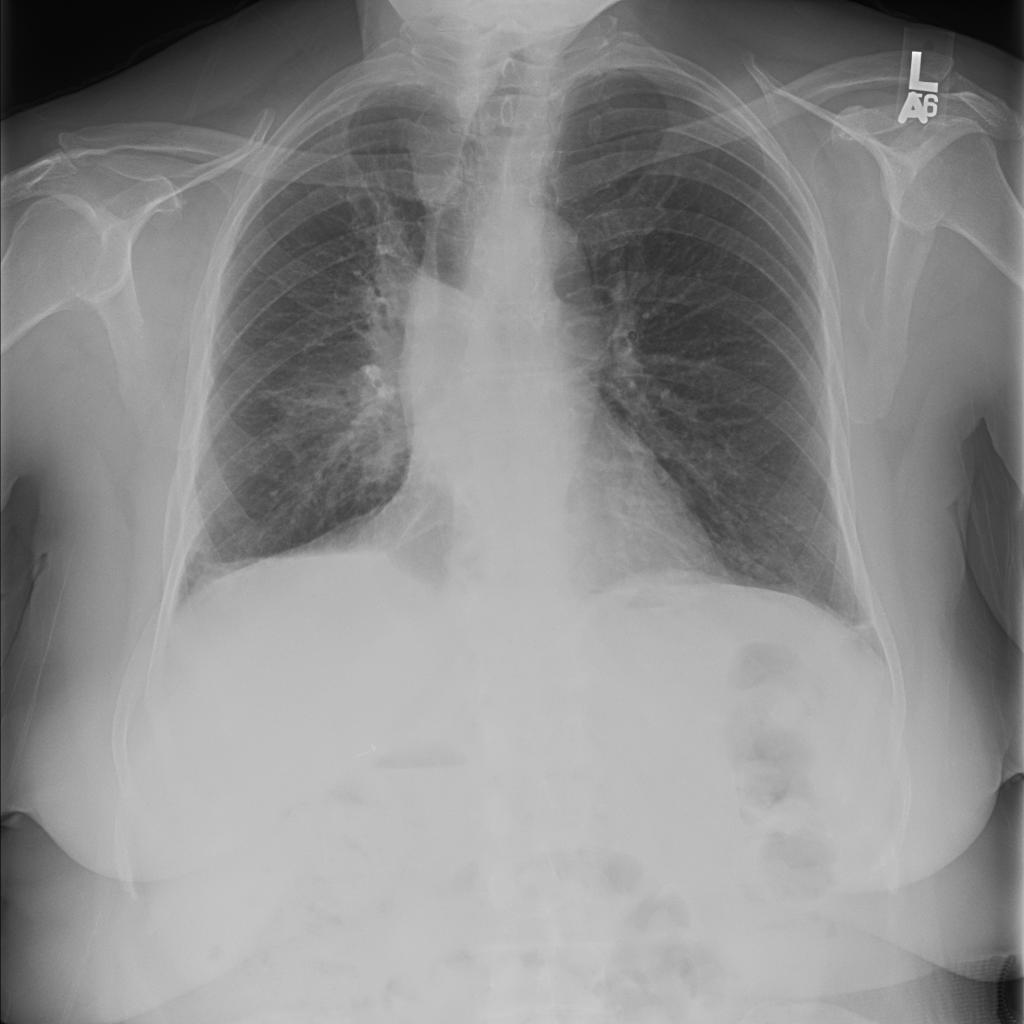Nodule: (330, 172, 378, 196)
